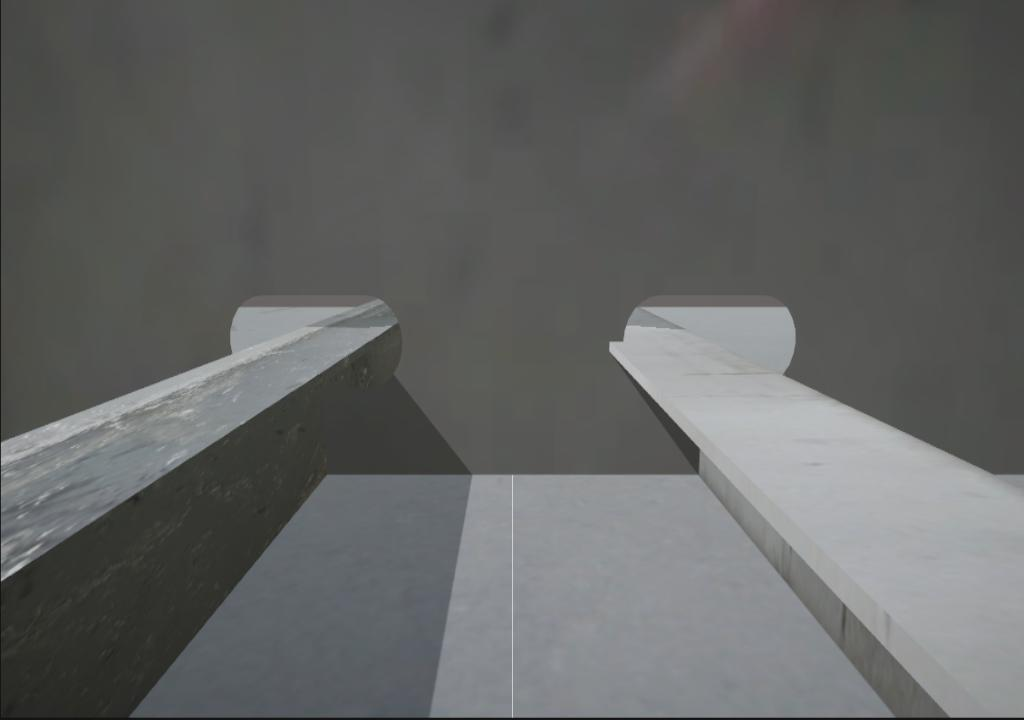fillet_yong_jeop_jang: (319, 461, 705, 496)
longi_yong_jeop_jang: (317, 379, 339, 487), (695, 435, 708, 489)
